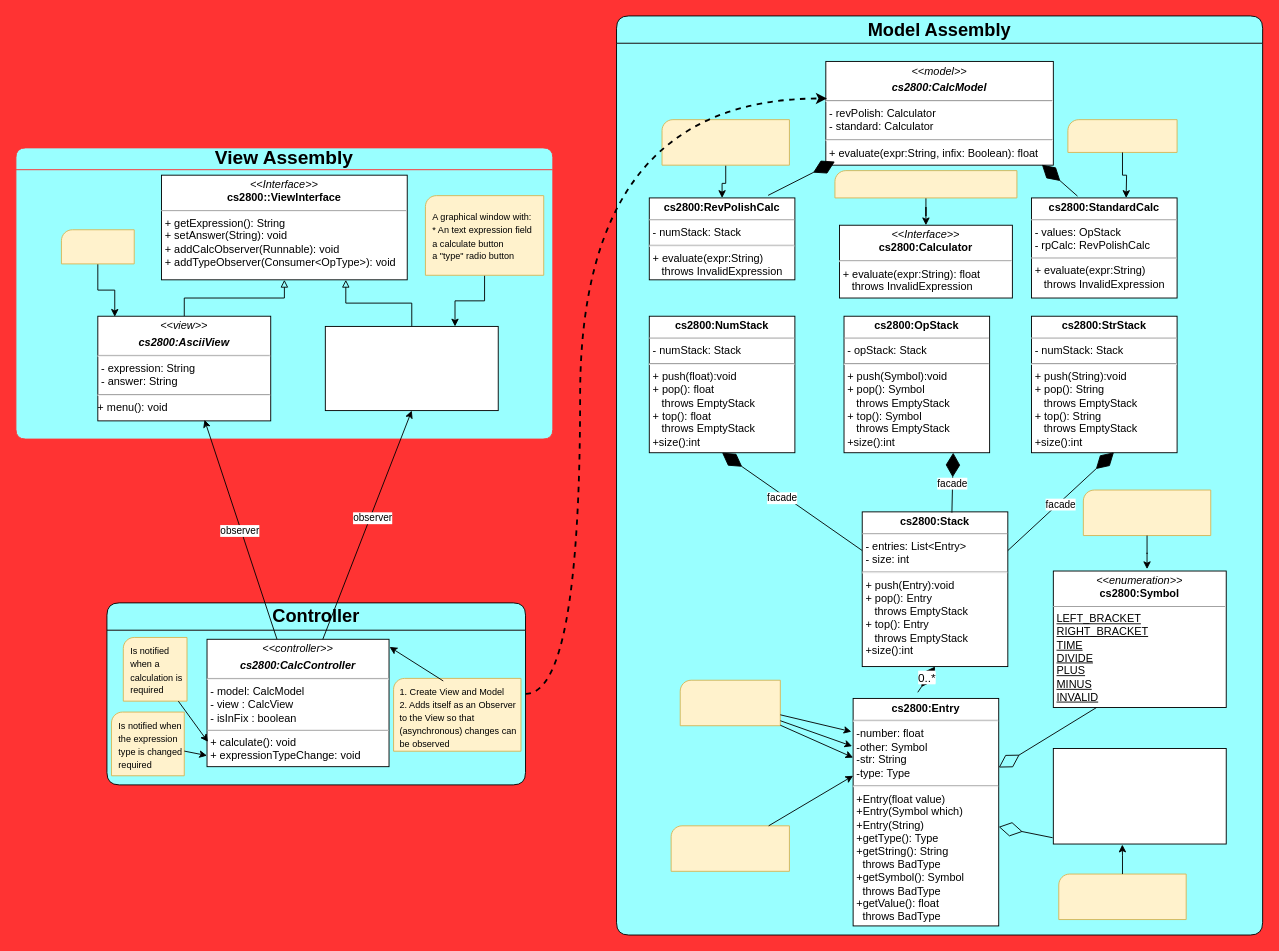
The diagram is 1279 pixels wide and 951 high, and some of its shapes have lost their labels. Here are the shapes that lost their labels. From the top down, the centre of each, then its label:
point 725,142: Evaluates a String as a reverse Polish expression
point 1122,135: Evaluates a String as an infix expression
point 925,184: Allows calculation of String Expressions
point 97,246: A menu based view
point 411,368: <<view>> cs2800:GuiView - expression: String - answer: String
point 1146,512: The non-number tokens possible in an expression
point 729,702: The possible values stored in an Entry
point 1139,796: <<enumeration>> cs2800:Type STRING NUMBER SYMBOL INVALID
point 729,848: The type of the "active" value in this Entry
point 1122,896: The posssible "types" of an Entry object
